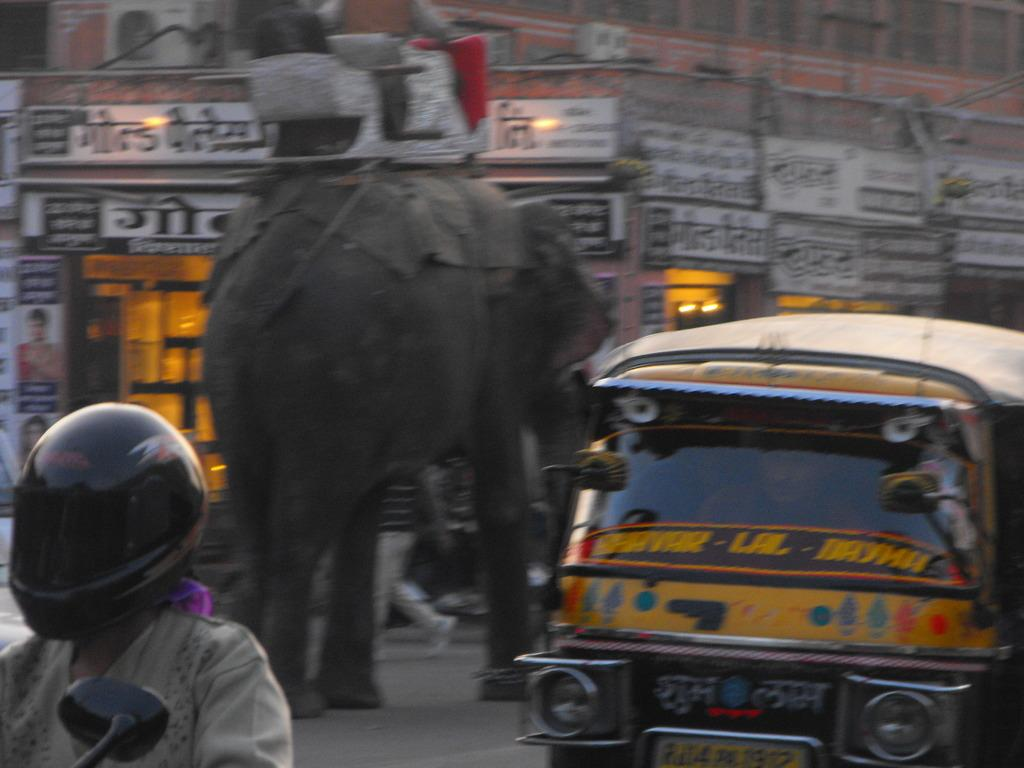helmet: (8, 402, 209, 641)
